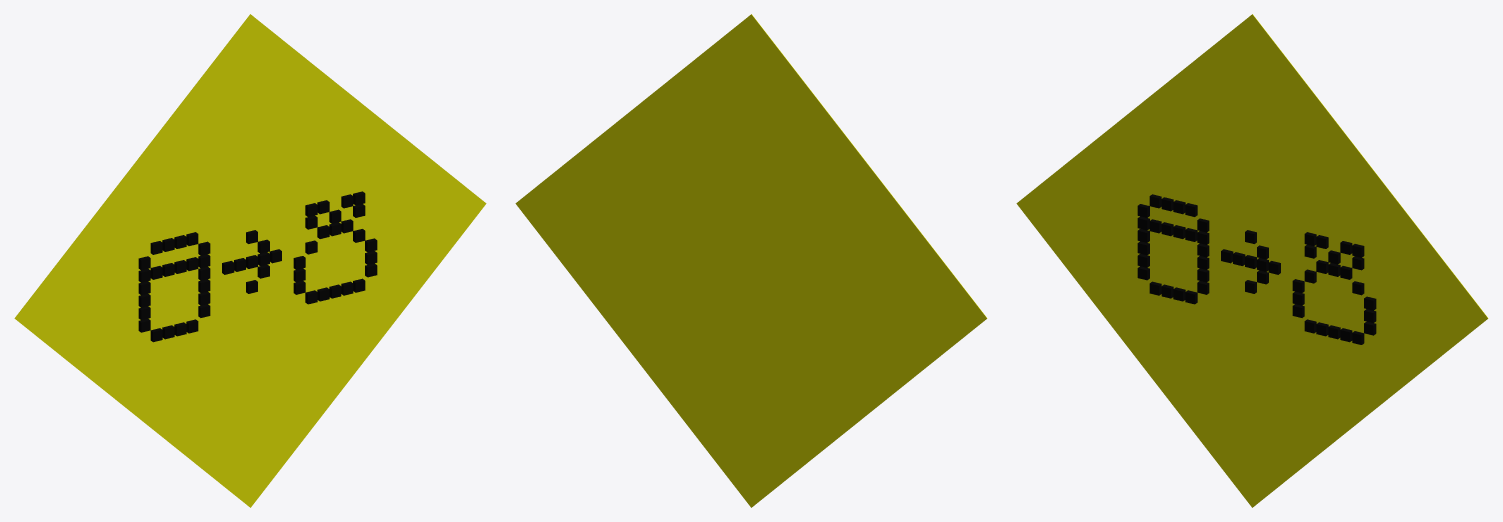
Rendered from MyTrashToStock.fbx.
3 renders of one model, left to right at view 1: azimuth 30°, elevation 25°; view 2: azimuth 150°, elevation 25°; view 3: azimuth 330°, elevation 25°, orthographic.
Parts seen in each view (by area): view 1: Cube.001; view 2: Cube.001; view 3: Cube.001.
Boxes of the visible parts, x1,y1,x2,y2 form: Cube.001: (14,14,486,507); Cube.001: (515,14,987,507); Cube.001: (1016,14,1488,507).
Bounding box in the file's own units: 198 × 198 × 2.1.
